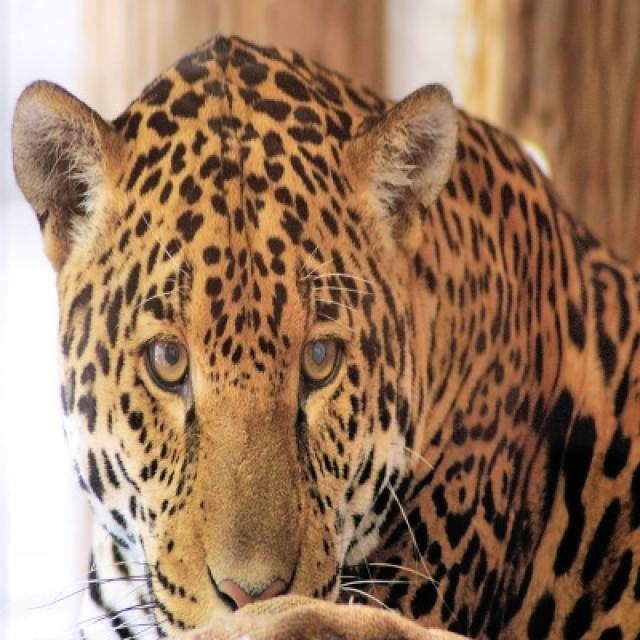Jaguar: (14, 33, 637, 638)
